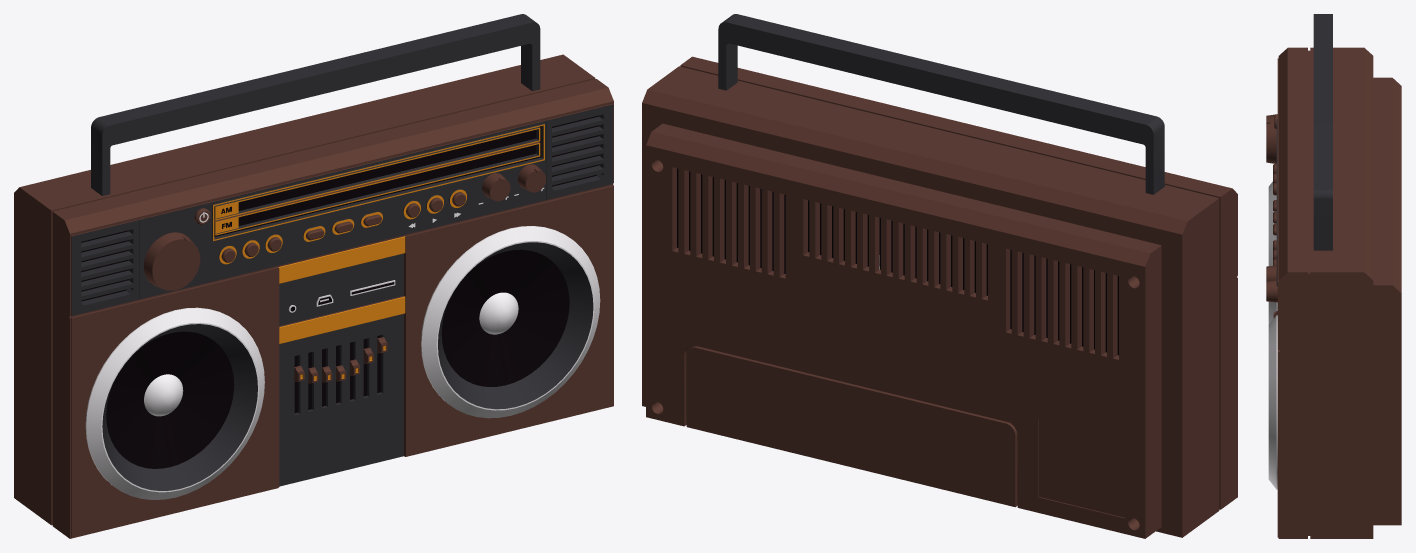
File: enceinte.glb
3 renders of one model, left to right at view 1: azimuth 30°, elevation 25°; view 2: azimuth 150°, elevation 25°; view 3: azimuth 270°, elevation 25°, orthographic. The views are drawn at different scales.
Parts seen in each view (by area): view 1: Material2 (×3); view 2: Material2 (×2); view 3: Material2 (×2).
Boxes of the visible parts, x1=… form: Material2 (×3): x1=14, y1=14, x2=613, y2=538; Material2 (×2): x1=642, y1=14, x2=1237, y2=538; Material2 (×2): x1=1266, y1=14, x2=1401, y2=538.
Size of the model in its own units: 18.58 by 12.52 by 4.72.
3 materials, 3 textured.
